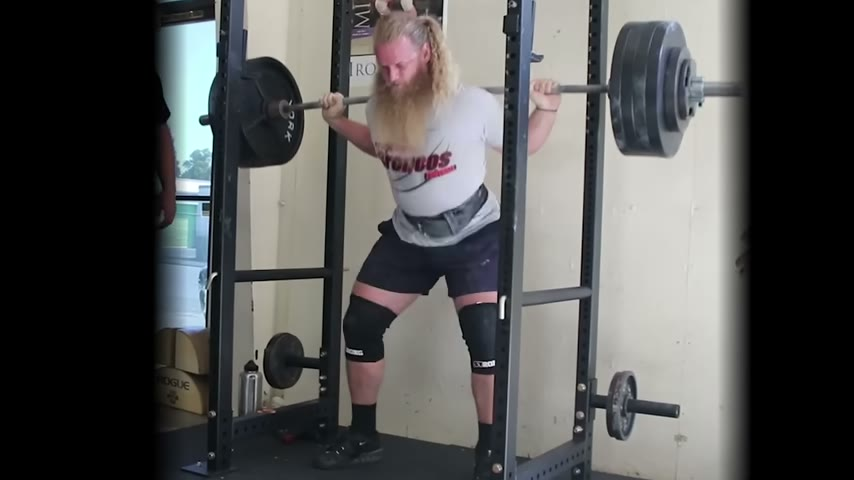barbell_plate_side: (659, 20, 744, 160), (209, 50, 296, 172), (607, 371, 682, 446)
